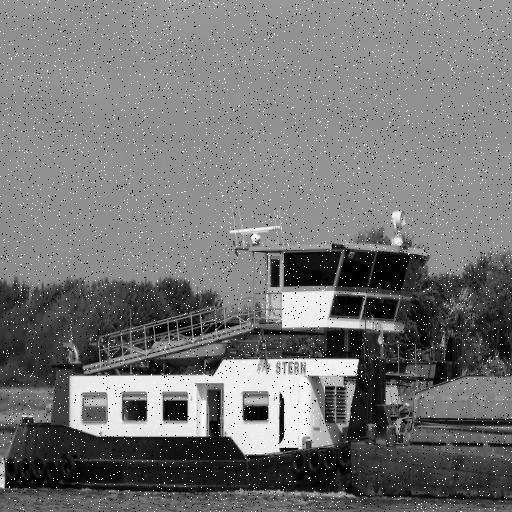tugboat: (2, 206, 467, 505)
